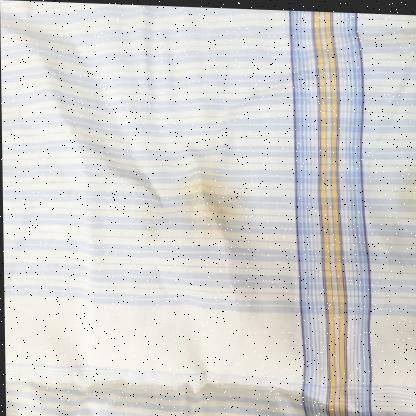spot: (135, 143, 246, 246), (146, 163, 227, 234), (167, 181, 207, 214)
